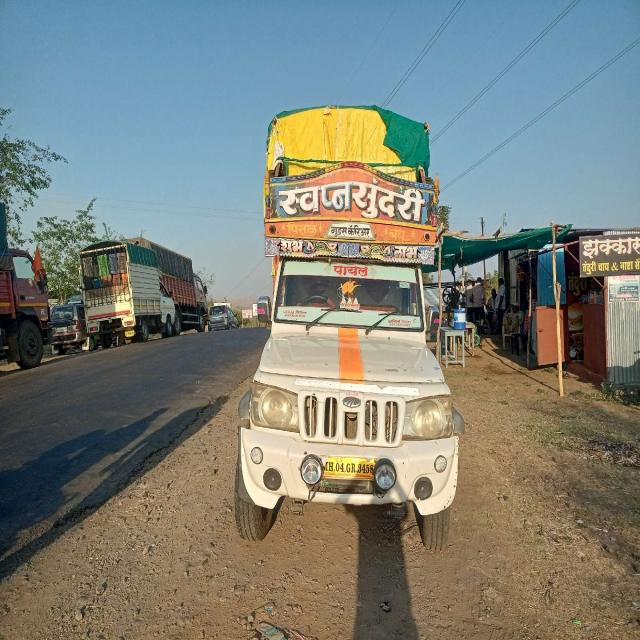light_vehicle: (233, 228, 460, 518)
